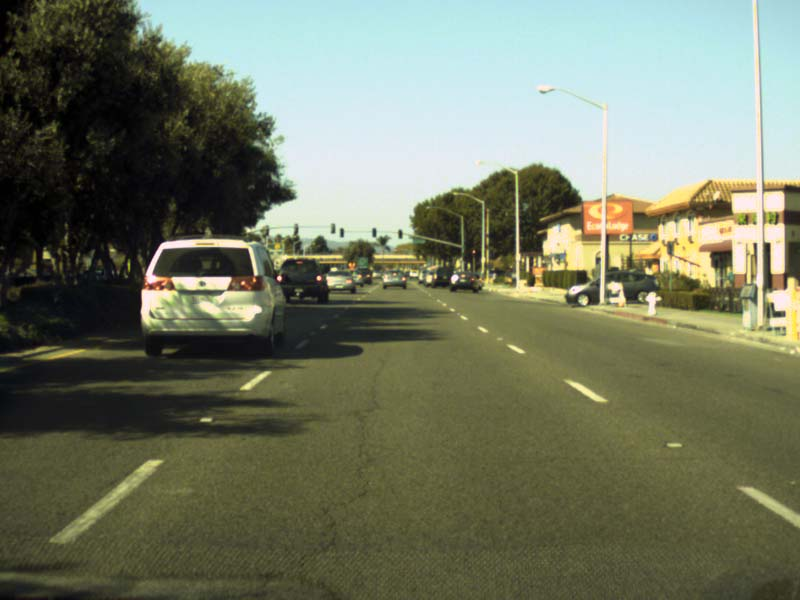Yellow: (470, 248, 476, 254)
